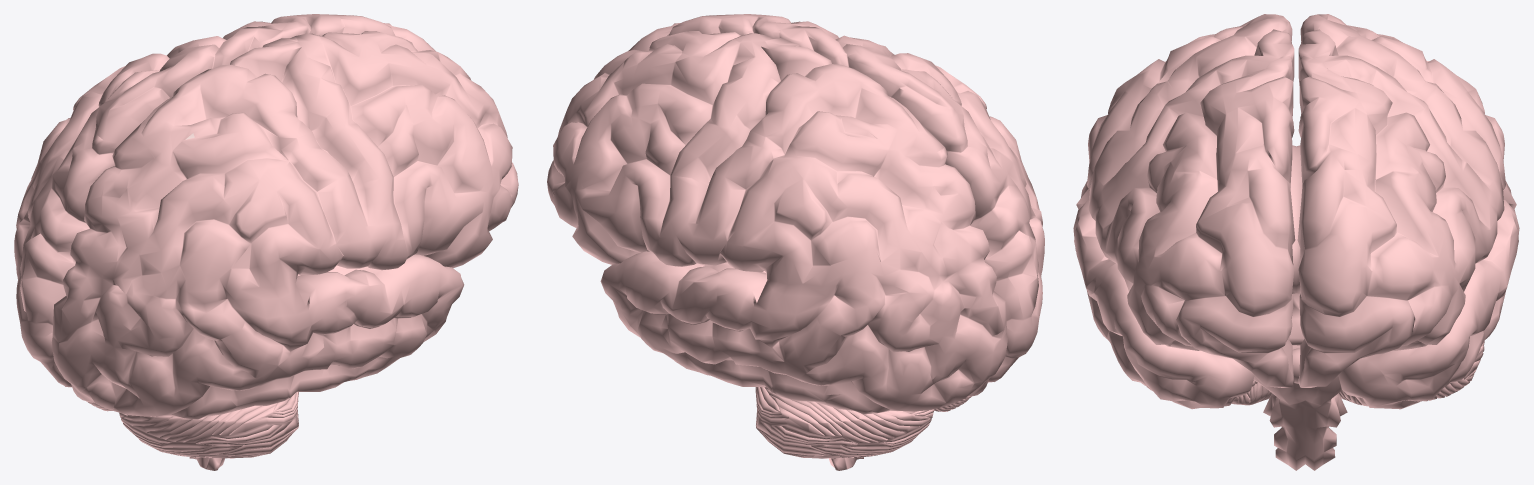
File: nervo.gltf
3 renders of one model, left to right at view 1: azimuth 30°, elevation 25°; view 2: azimuth 150°, elevation 25°; view 3: azimuth 270°, elevation 25°, orthographic. The views are drawn at different scales.
Parts seen in each view (by area): view 1: Component#1; view 2: Component#1; view 3: Component#1.
Boxes of the visible parts, <box> form: Component#1: <box>14,14,518,470</box>; Component#1: <box>547,14,1044,470</box>; Component#1: <box>1073,14,1519,470</box>.
Size of the model in its own units: 3.81 by 3.41 by 3.05.
